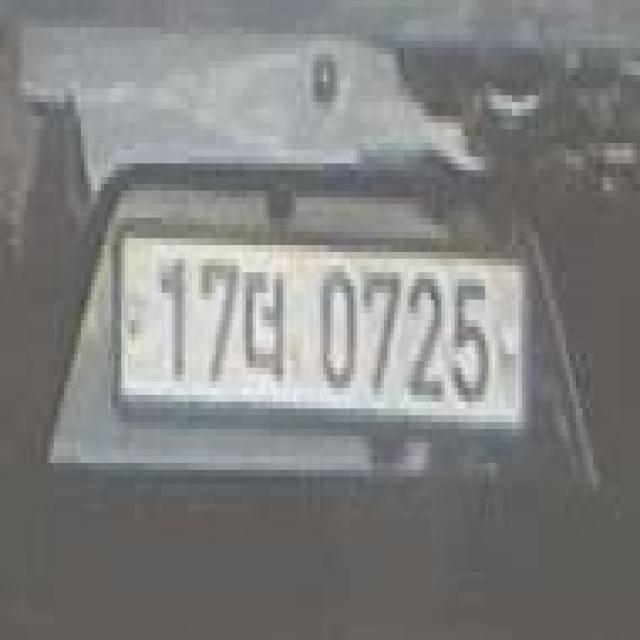0: (316, 252, 361, 395)
1: (155, 245, 195, 395)
2: (404, 252, 448, 408)
5: (451, 258, 492, 408)
7: (196, 252, 240, 395), (360, 252, 401, 402)
deo: (242, 245, 286, 402)
license_plate: (104, 204, 536, 477)
